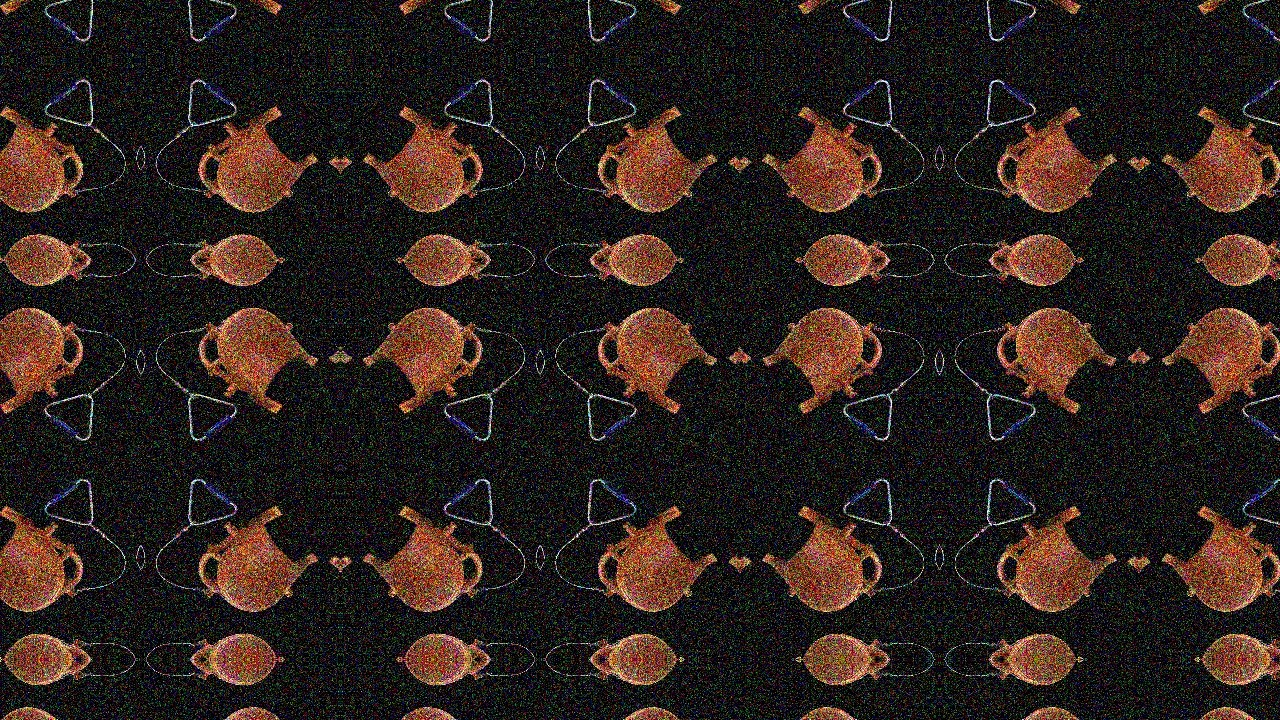chock: (192, 97, 325, 219), (355, 97, 488, 219), (592, 97, 725, 219), (755, 97, 888, 219), (992, 97, 1125, 219), (192, 301, 325, 423), (355, 301, 488, 423), (592, 301, 725, 423), (755, 301, 888, 423), (992, 301, 1125, 423), (192, 497, 325, 619), (355, 497, 488, 619), (592, 497, 725, 619), (755, 497, 888, 619), (992, 497, 1125, 619), (1155, 97, 1280, 219), (1155, 301, 1280, 423), (1155, 497, 1280, 619), (0, 97, 88, 219), (0, 301, 88, 423), (0, 497, 88, 619), (192, 0, 325, 23), (355, 0, 488, 23), (592, 0, 725, 23), (755, 0, 888, 23), (992, 0, 1125, 23), (1155, 0, 1280, 23), (192, 701, 325, 720), (355, 701, 488, 720), (592, 701, 725, 720), (755, 701, 888, 720), (992, 701, 1125, 720), (1155, 701, 1280, 720), (0, 0, 88, 23), (0, 701, 88, 720)
